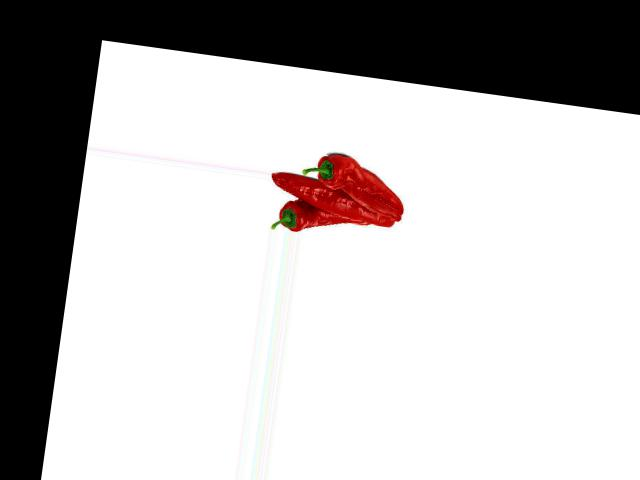bell_pepper: (296, 146, 411, 209)
